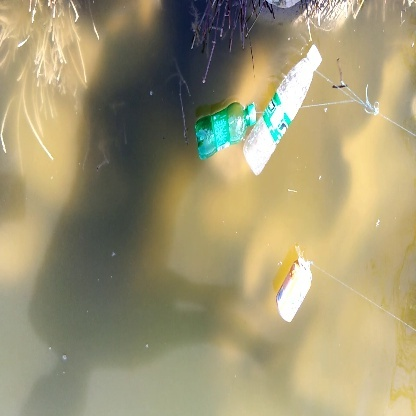bottle: (270, 253, 323, 328)
